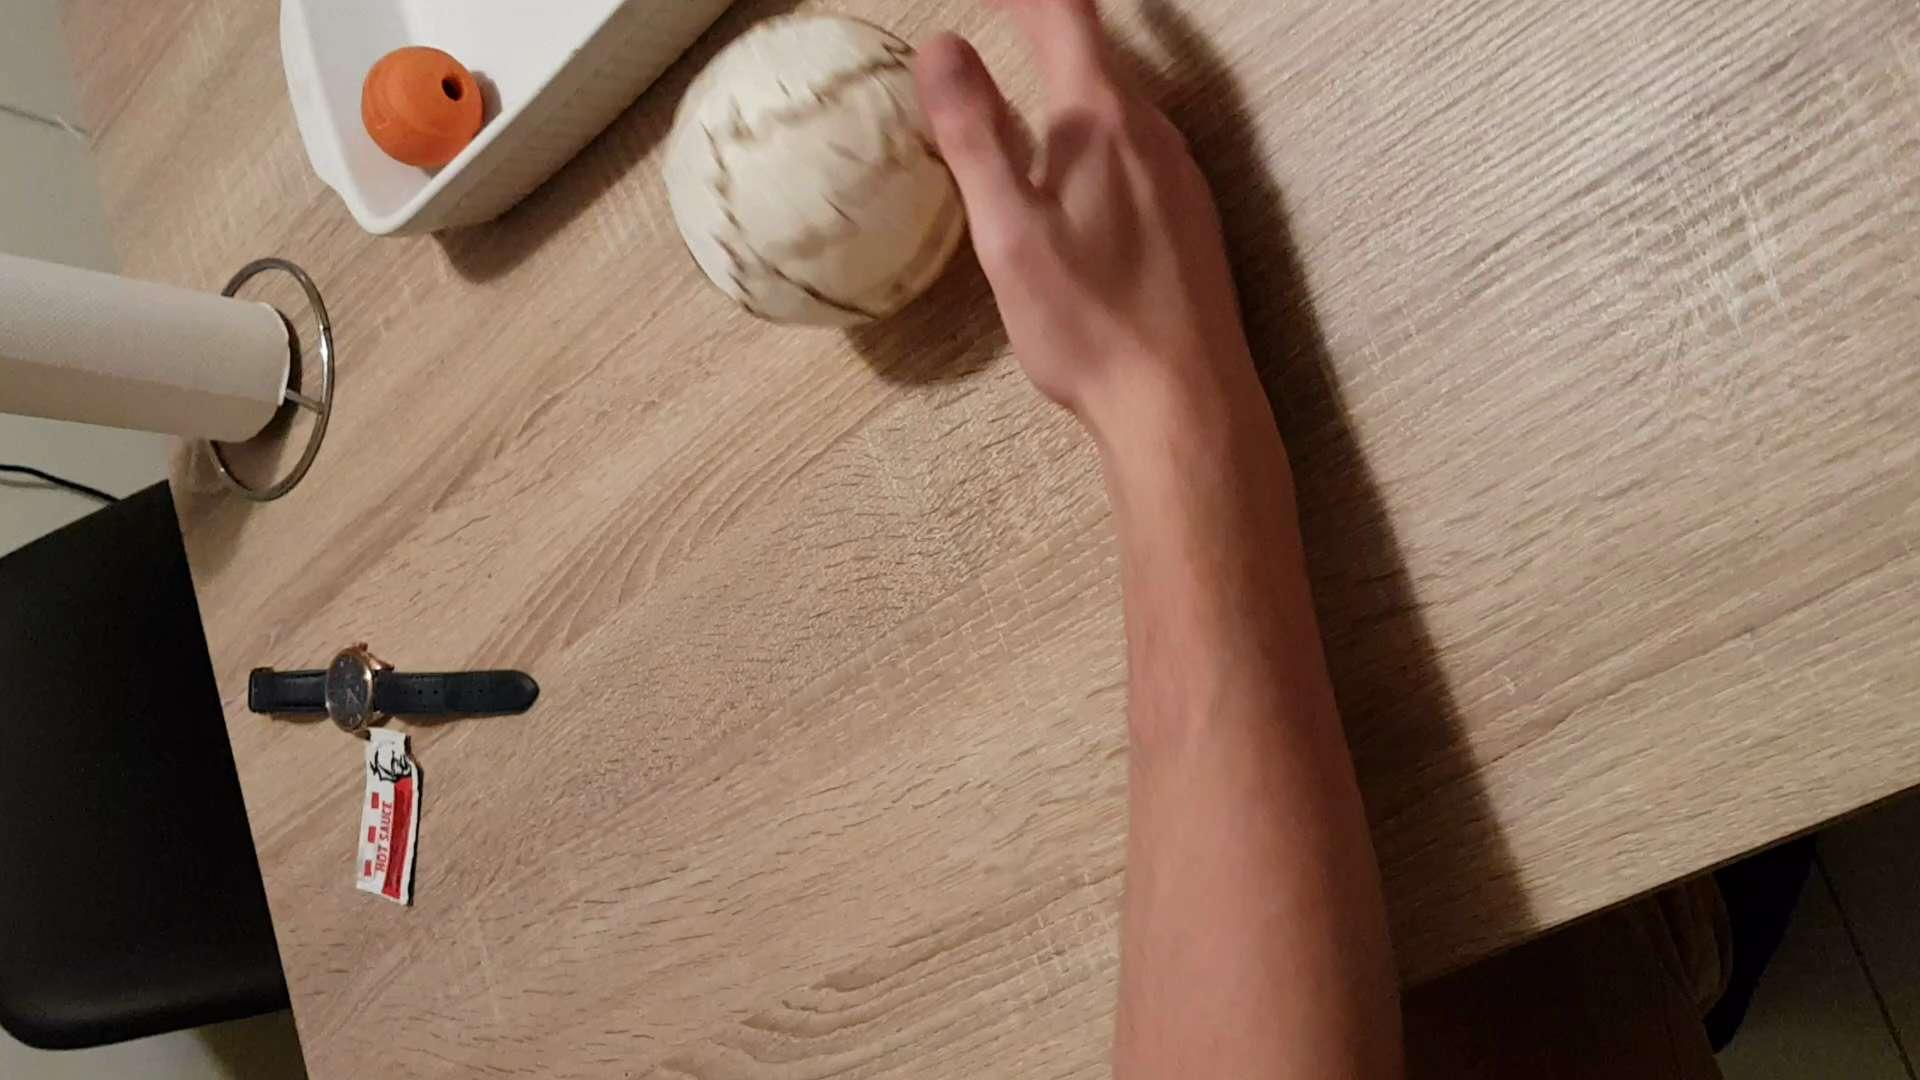sphere: (659, 15, 945, 335)
